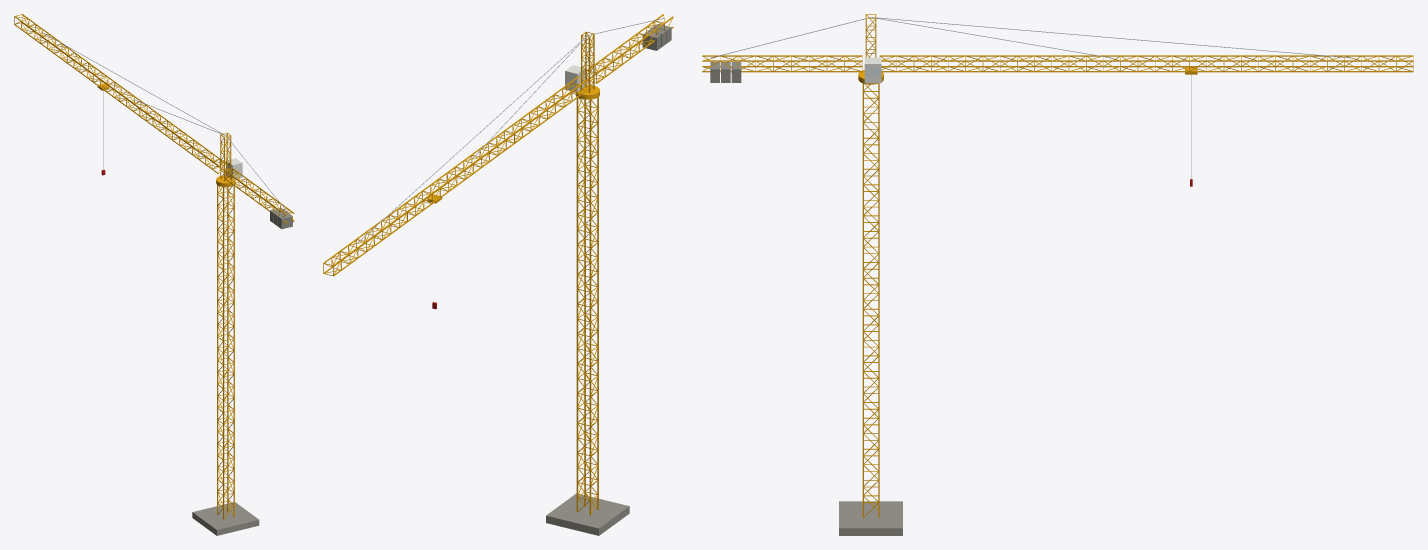
Rendered from plant.crane.tower_45.glb.
3 views of the same model, side by side, from view 1: azimuth 30°, elevation 25°; view 2: azimuth 150°, elevation 25°; view 3: azimuth 270°, elevation 25° (orthographic). The views are drawn at different scales.
Visible parts, largest first — view 1: mast__plant_yellow, jib__plant_yellow, base__concrete, slew__plant_yellow, jib__steel_galvanised, jib__concrete; view 2: mast__plant_yellow, jib__plant_yellow, base__concrete, slew__plant_yellow, jib__steel_galvanised, jib__concrete; view 3: jib__plant_yellow, mast__plant_yellow, base__concrete, jib__steel_galvanised.
Boxes of the visible parts, bbox=[...] form: mast__plant_yellow: bbox=[217, 185, 234, 519]; jib__plant_yellow: bbox=[14, 14, 294, 223]; base__concrete: bbox=[192, 502, 259, 535]; slew__plant_yellow: bbox=[216, 132, 235, 187]; jib__steel_galvanised: bbox=[42, 32, 286, 211]; jib__concrete: bbox=[270, 208, 292, 229]; mast__plant_yellow: bbox=[576, 97, 598, 515]; jib__plant_yellow: bbox=[323, 14, 673, 276]; base__concrete: bbox=[546, 493, 629, 535]; slew__plant_yellow: bbox=[575, 31, 599, 99]; jib__steel_galvanised: bbox=[358, 18, 664, 242]; jib__concrete: bbox=[642, 24, 671, 50]; jib__plant_yellow: bbox=[702, 55, 1413, 72]; mast__plant_yellow: bbox=[862, 83, 879, 518]; base__concrete: bbox=[839, 501, 902, 535]; jib__steel_galvanised: bbox=[711, 17, 1351, 58].
Bounding box in the file's own units: 6 × 52.33 × 66.64.
